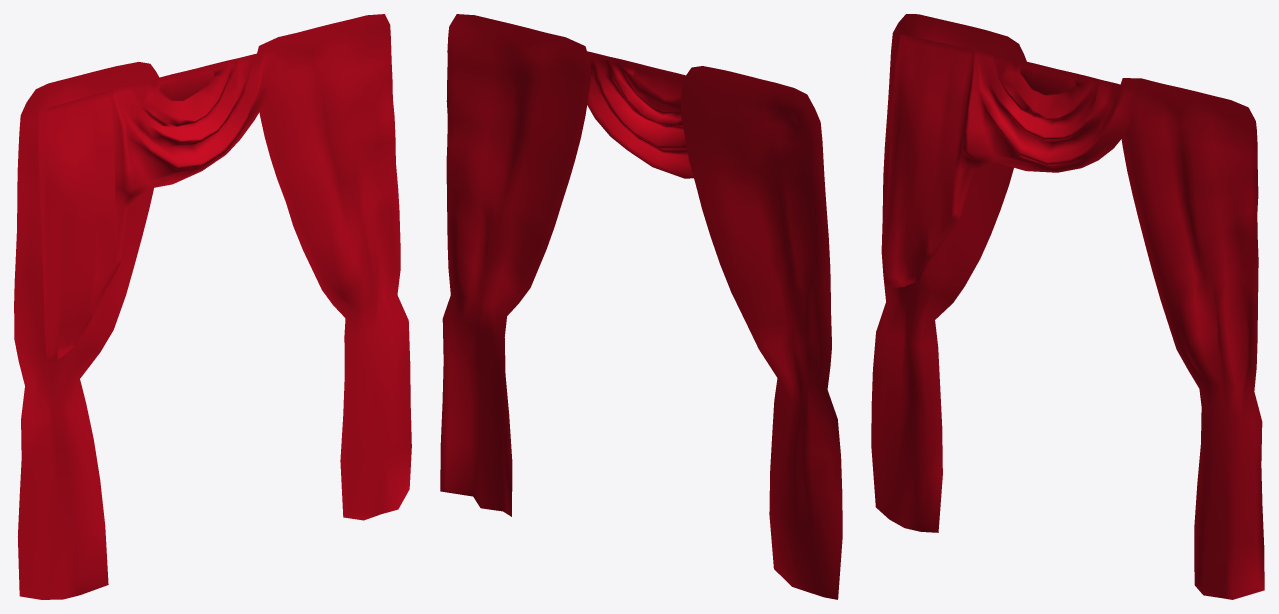
Rendered from 60_4_Curtains.fbx.
The picture shows the model from 3 angles, left to right: view 1: azimuth 30°, elevation 25°; view 2: azimuth 150°, elevation 25°; view 3: azimuth 330°, elevation 25°; orthographic projection. The views are drawn at different scales.
Parts seen in each view (by area): view 1: SM_Curtains_2.0.4; view 2: SM_Curtains_2.0.4; view 3: SM_Curtains_2.0.4.
Boxes of the visible parts, <box> form: SM_Curtains_2.0.4: <box>14,14,411,599</box>; SM_Curtains_2.0.4: <box>440,14,842,599</box>; SM_Curtains_2.0.4: <box>871,14,1264,599</box>.
Bounding box in the file's own units: 218 × 268 × 22.21.
